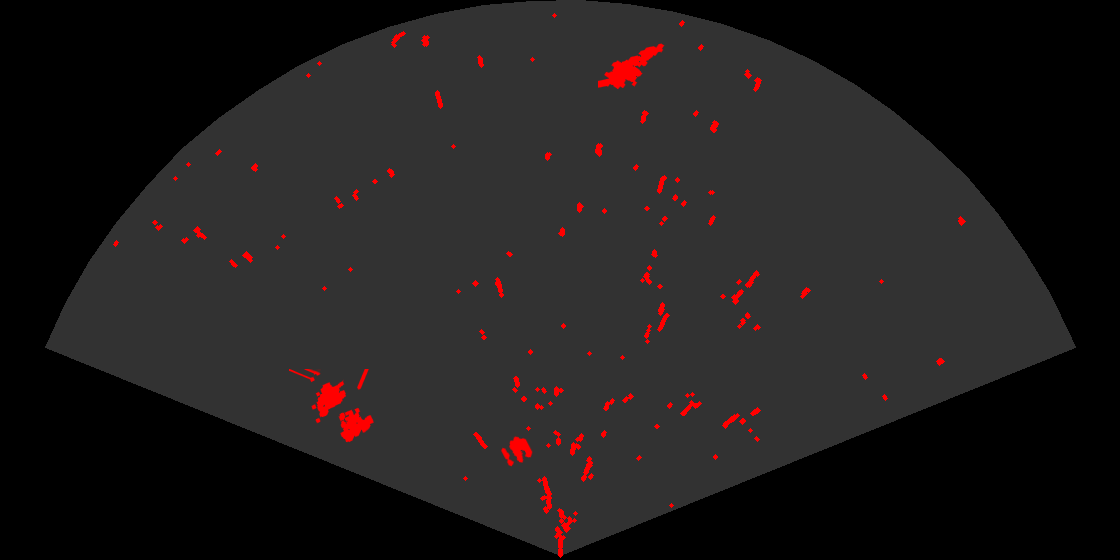ball: (499, 435, 534, 468)
cage: (289, 369, 375, 444)
frogman: (598, 42, 666, 91)
